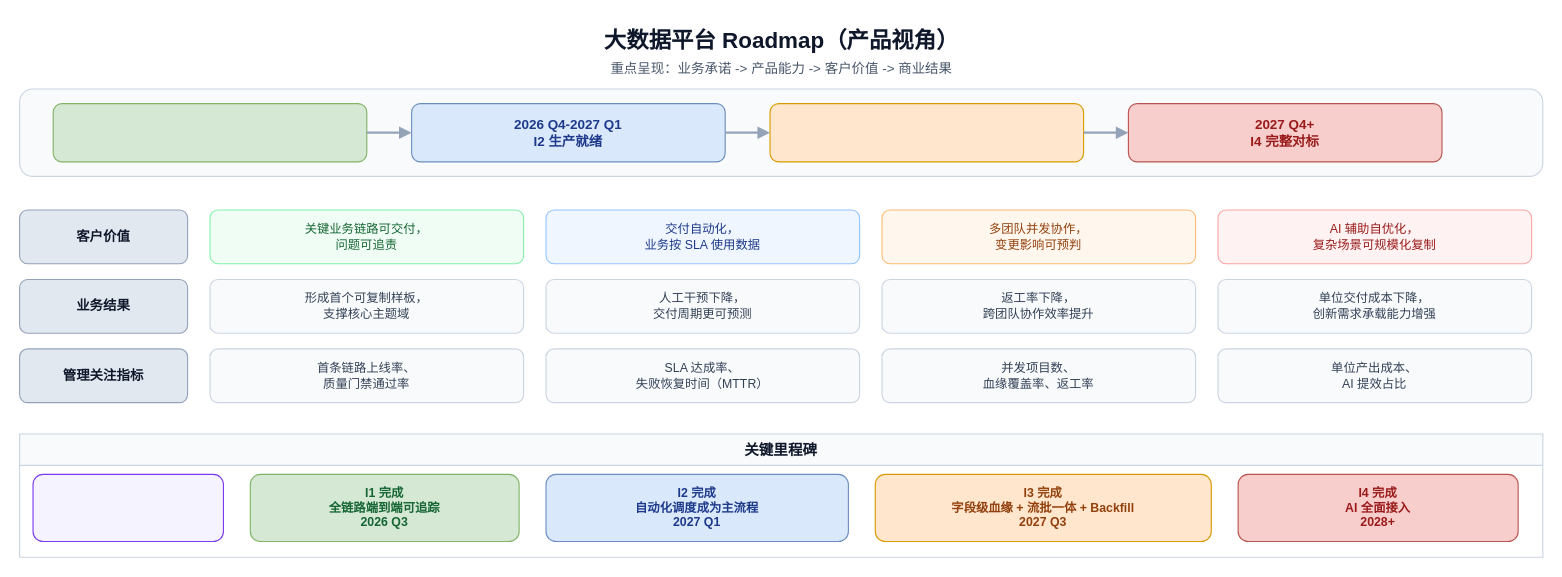
Some shapes in this 1562 by 577 pixel diagram are drawn without their labels. Here are the shapes that lost their labels. From the top down, the box of each, then its label:
(52, 102, 367, 162): 2026 Q2-Q3 I1 基础闭环
(769, 102, 1084, 162): 2027 Q2-Q3 I3 能力增强
(32, 473, 223, 542): EOS P0 上线 2026 Q2
